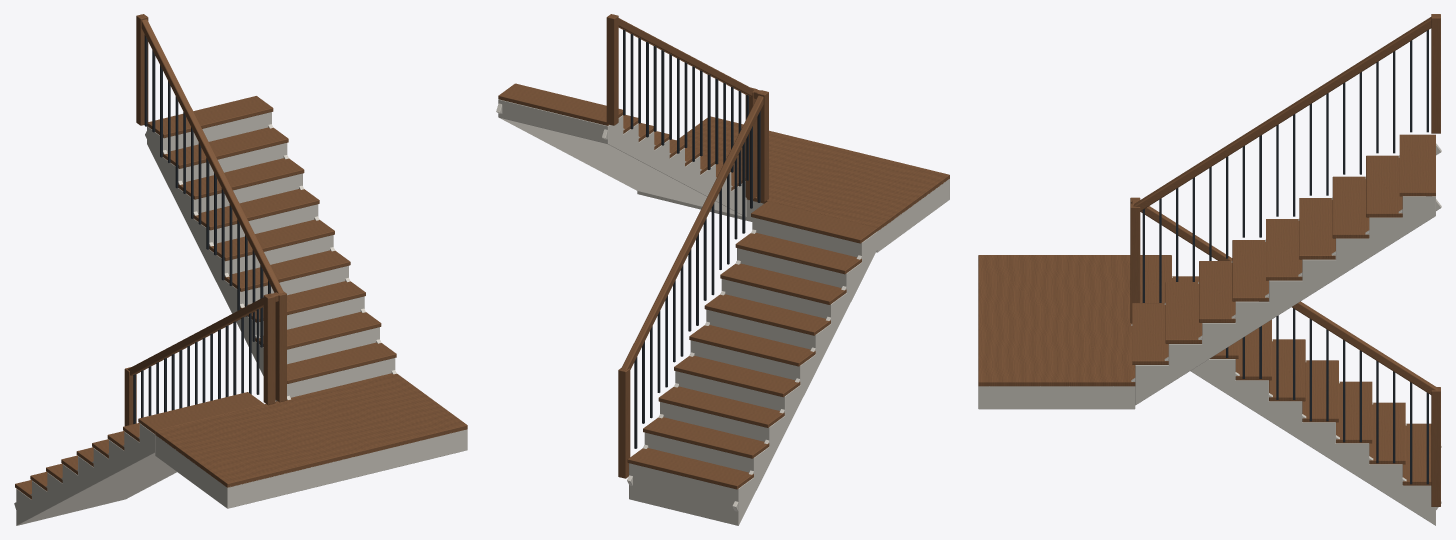
File: staircase-v002.glb
3 renders of one model, left to right at view 1: azimuth 30°, elevation 25°; view 2: azimuth 150°, elevation 25°; view 3: azimuth 270°, elevation 25°, orthographic. The views are drawn at different scales.
Parts seen in each view (by area): view 1: Export Flight 0 oak tread 01; view 2: Export Flight 0 oak tread 01; view 3: Export Flight 0 oak tread 01.
Part boxes in pixels (box(x1,y1,x2,y2)): Export Flight 0 oak tread 01: box(14, 14, 467, 525); Export Flight 0 oak tread 01: box(496, 14, 949, 525); Export Flight 0 oak tread 01: box(978, 14, 1441, 525).
Size of the model in its own units: 2.3 by 4.38 by 3.54.
Materials: 3 (1 with a texture image).
